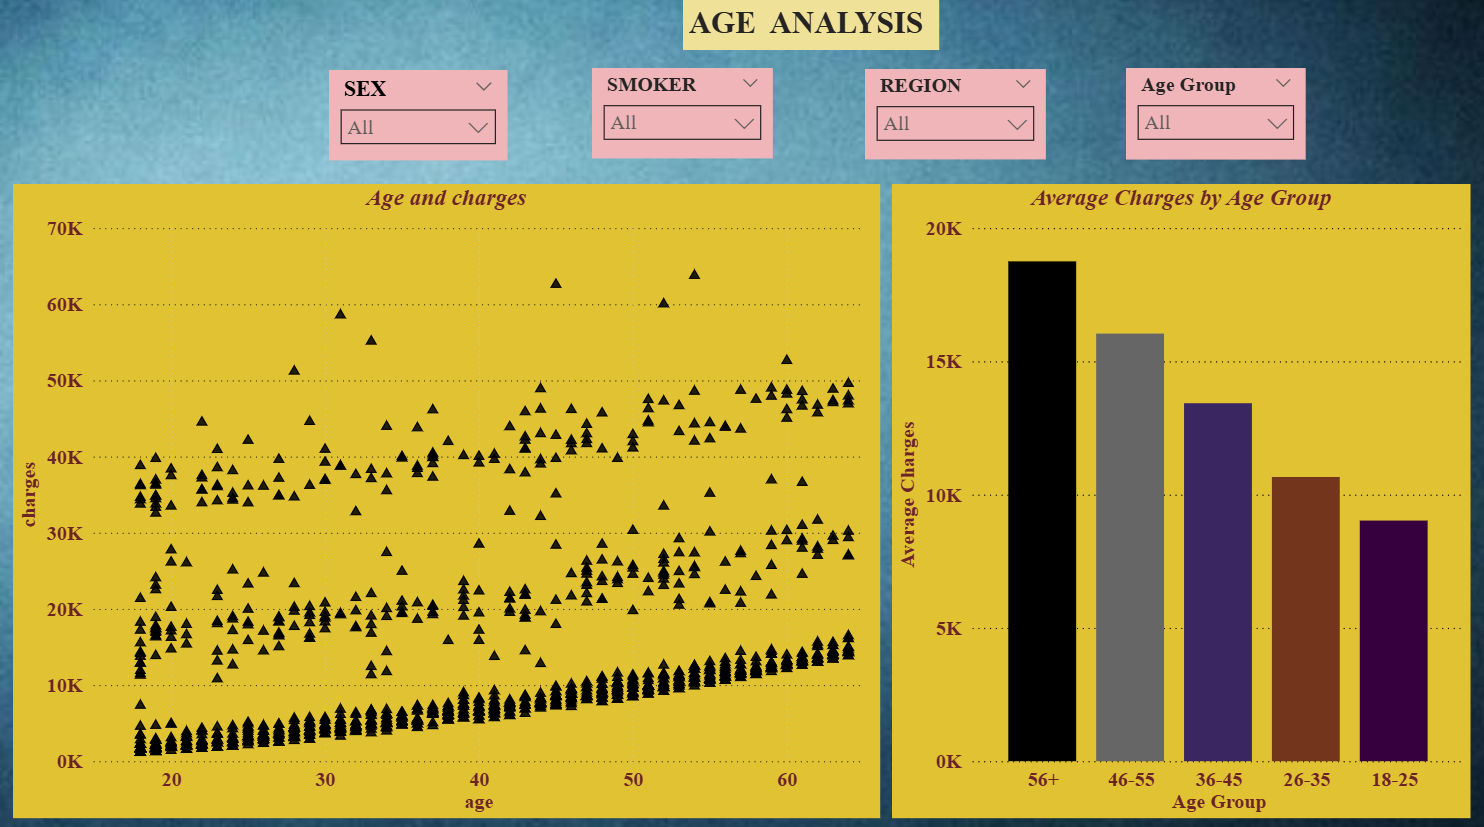

The dashboard page shown, as its layout file describes it:
{"tool":"powerbi","page":{"name":"Page 2","canvas":[1280,720],"ordinal":1},"visuals":[{"type":"scatterChart","title":"Age and charges","fields":{"X":["medical_insurance.age"],"Y":["medical_insurance.charges"]},"box":[11.2,165.6,747.8,546.8],"z":0},{"type":"textbox","box":[589.1,6,220.8,44],"z":1000},{"type":"clusteredColumnChart","fields":{"Category":["medical_insurance.Age Group"],"Y":["medical_insurance.Average Charges"]},"box":[769.4,165.6,499.4,546.8],"z":1001},{"type":"slicer","fields":{"Values":["medical_insurance.sex"]},"box":[283.8,67.3,153.5,77.6],"z":1002},{"type":"slicer","fields":{"Values":["medical_insurance.smoker"]},"box":[510.6,65.6,156.1,77.6],"z":1003},{"type":"slicer","fields":{"Values":["medical_insurance.region"]},"box":[746.1,66.4,156.1,78.5],"z":1005},{"type":"slicer","fields":{"Values":["medical_insurance.Age Group"]},"box":[971.2,65.6,155.3,79.4],"z":1006}]}

Visuals, with their boxes in screenshot pixels (x1, y1, x2, y2), scaled from the page's 1280x720 canvas onto the 1484x827 screenshot:
"Age and charges" scatterChart: (x1=13, y1=190, x2=880, y2=818)
textbox: (x1=683, y1=7, x2=939, y2=57)
clusteredColumnChart - medical_insurance.Age Group x medical_insurance.Average Charges: (x1=892, y1=190, x2=1471, y2=818)
slicer - medical_insurance.sex: (x1=329, y1=77, x2=507, y2=166)
slicer - medical_insurance.smoker: (x1=592, y1=75, x2=773, y2=164)
slicer - medical_insurance.region: (x1=865, y1=76, x2=1046, y2=166)
slicer - medical_insurance.Age Group: (x1=1126, y1=75, x2=1306, y2=167)
